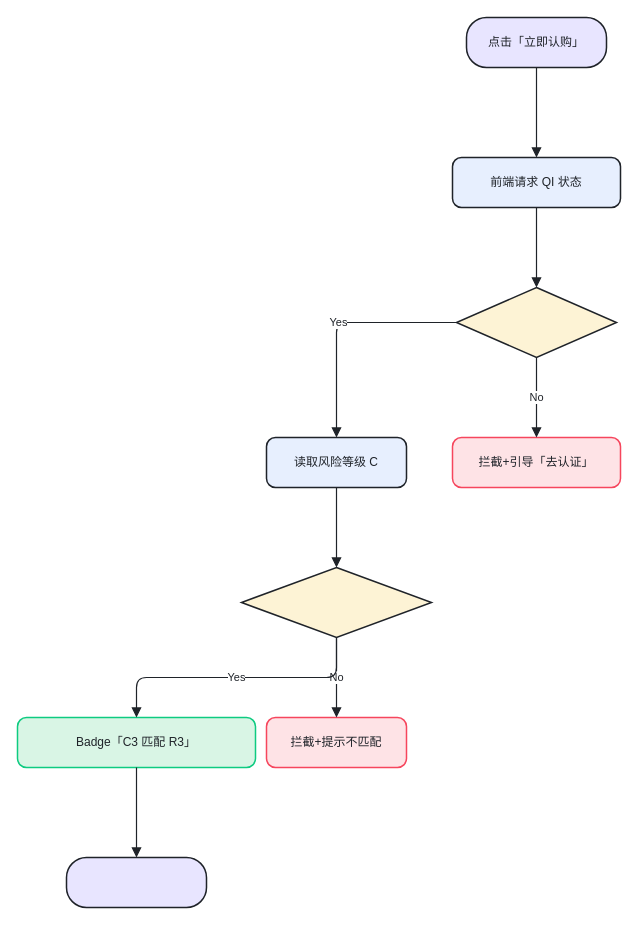
This 639x926 diagram has some shape labels left out. The centre of each missing label's shape, as x and y in pixels:
C 级 ≥ R 级?: [336,602]
QI 已认证?: [536,322]
进入认购下单: [136,882]
